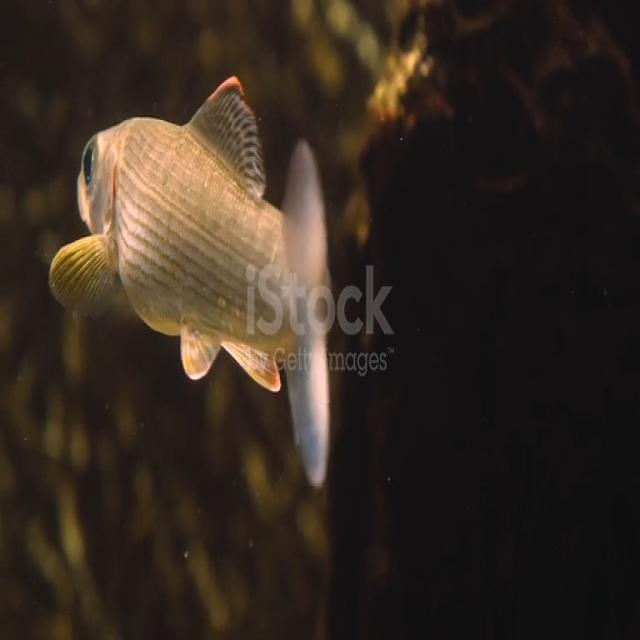fish: (49, 72, 348, 496)
